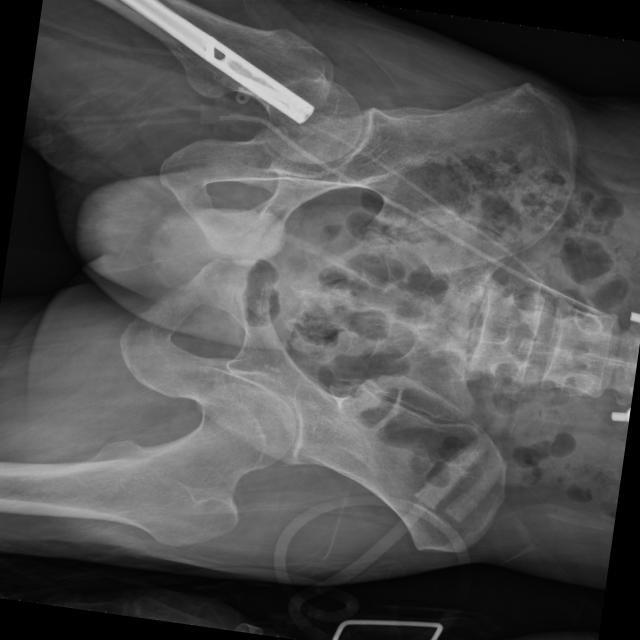normal-left: (0, 383, 296, 546)
normal-right: (93, 0, 361, 165)
